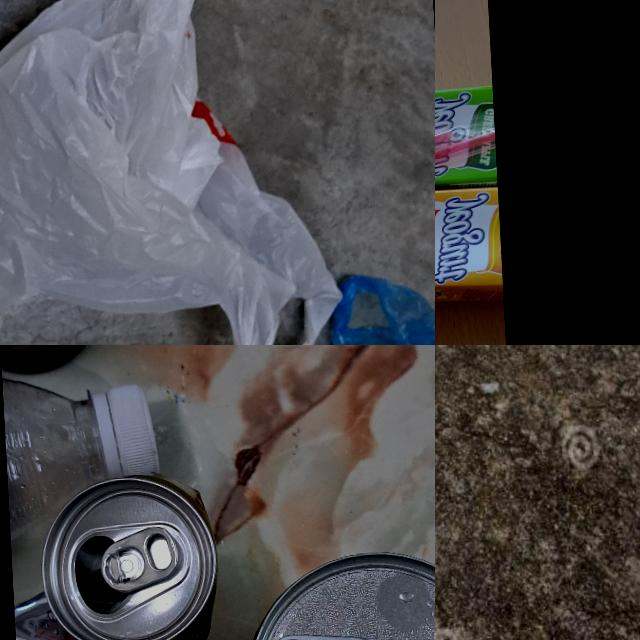aba de lata: (100, 524, 180, 596)
garrafa plástica: (2, 370, 109, 541)
lata: (8, 475, 226, 640), (224, 545, 435, 640)
sacola plástica: (0, 0, 345, 345), (324, 271, 435, 345)
tampa plástica: (105, 383, 159, 481)
